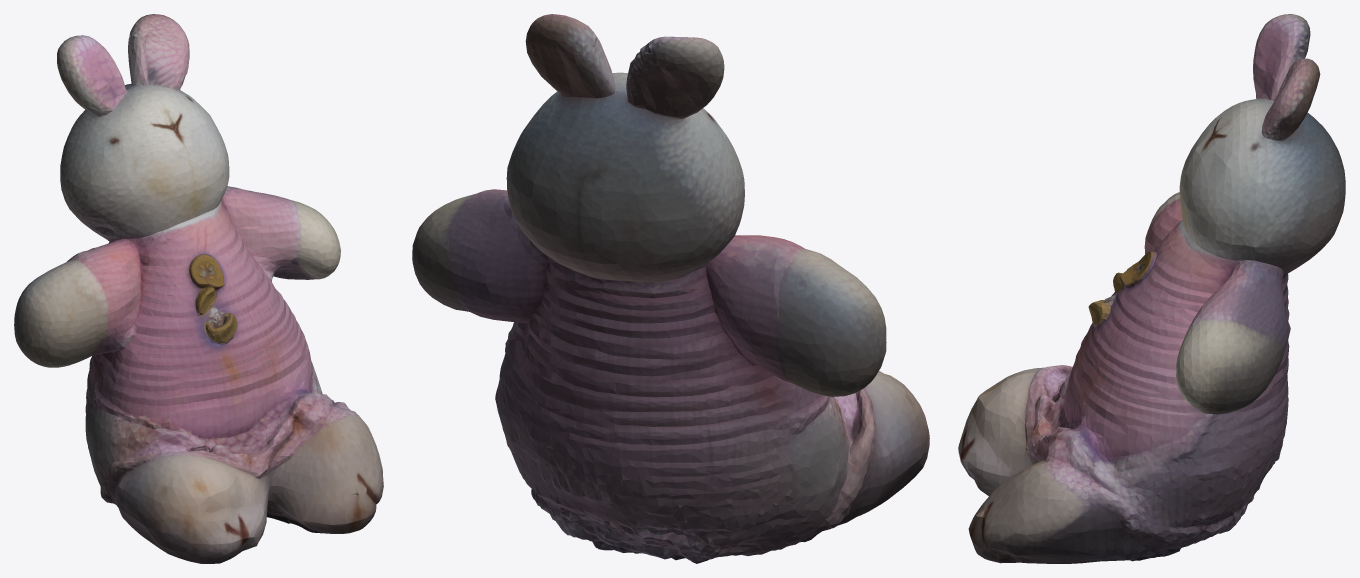
The picture shows the model from 3 angles, left to right: view 1: azimuth 30°, elevation 25°; view 2: azimuth 150°, elevation 25°; view 3: azimuth 270°, elevation 25°; orthographic projection. The views are drawn at different scales.
Visible parts, largest first — view 1: world; view 2: world; view 3: world.
Part boxes in pixels (x1,y1,x2,y2): world: [14, 14, 383, 563]; world: [412, 14, 929, 563]; world: [958, 14, 1345, 563].
Size of the model in its own units: 0.8024 by 0.9998 by 0.7568.
Materials: 1 (1 with a texture image).
